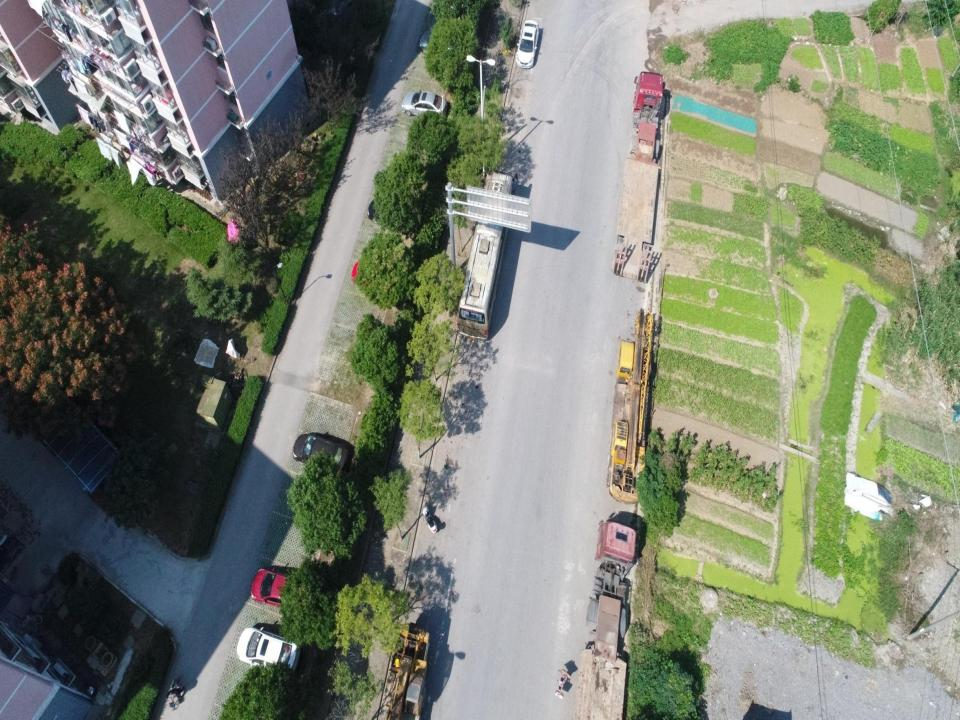bus: (457, 170, 512, 340)
car: (292, 432, 362, 478), (236, 626, 300, 676), (251, 567, 313, 612), (367, 195, 411, 224), (351, 260, 399, 286), (401, 90, 447, 116), (516, 19, 539, 68), (419, 30, 460, 54)
truck: (574, 520, 636, 719), (611, 71, 663, 282)
